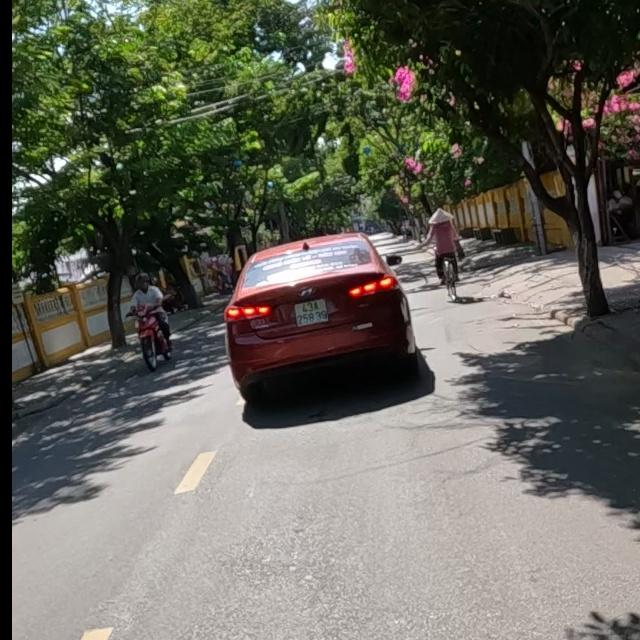license-plate: (293, 297, 330, 327)
